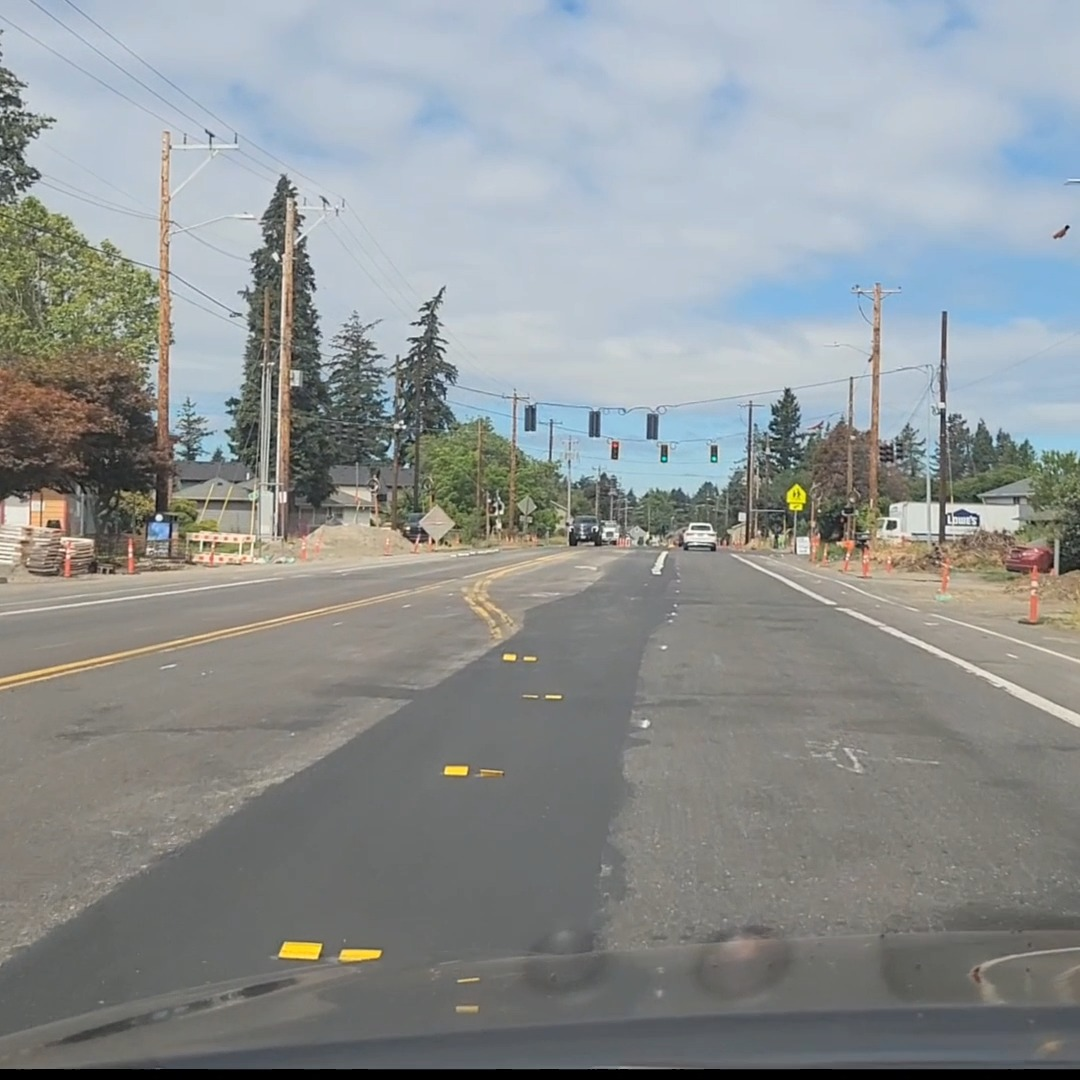car: (680, 522, 717, 551), (568, 516, 603, 546), (400, 513, 432, 543), (599, 520, 620, 545)
crosswalk-sign: (785, 483, 806, 510)
delineator: (1025, 566, 1041, 625), (935, 559, 952, 600), (840, 540, 853, 571), (63, 542, 72, 578), (860, 547, 870, 578), (126, 538, 134, 574), (207, 540, 216, 565), (810, 534, 818, 560), (885, 548, 893, 572), (412, 532, 421, 552), (383, 535, 392, 555), (299, 538, 307, 560), (821, 542, 829, 564), (314, 536, 321, 556), (505, 531, 513, 543)
